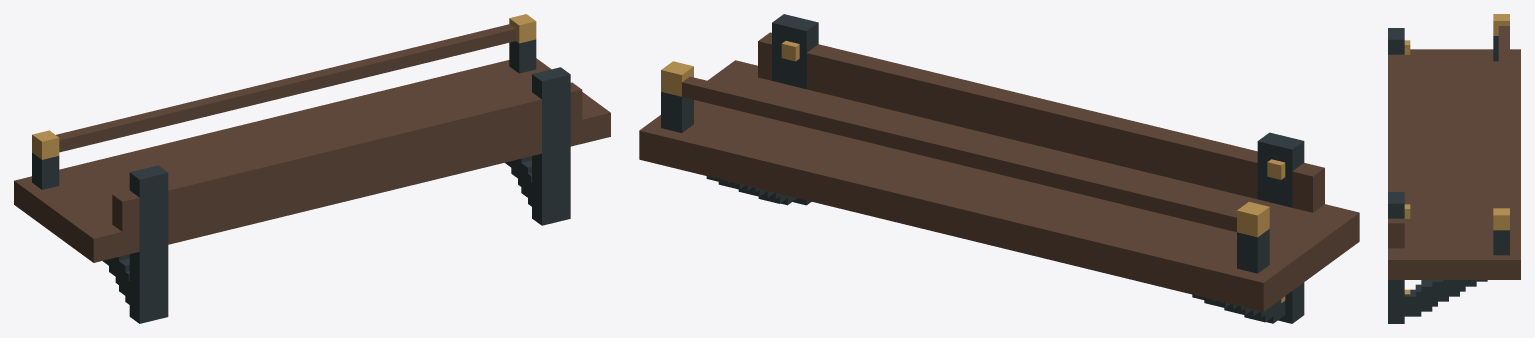
The picture shows the model from 3 angles, left to right: view 1: azimuth 30°, elevation 25°; view 2: azimuth 150°, elevation 25°; view 3: azimuth 270°, elevation 25°; orthographic projection. The views are drawn at different scales.
Parts seen in each view (by area): view 1: 墙面置物层板; view 2: 墙面置物层板; view 3: 墙面置物层板.
Boxes of the visible parts, left/top/right/bottom form: 墙面置物层板: left=14, top=14, right=610, bottom=323; 墙面置物层板: left=639, top=14, right=1359, bottom=323; 墙面置物层板: left=1388, top=14, right=1520, bottom=323.
Size of the model in its own units: 0.9 by 0.24 by 0.24.
3 materials, 3 textured.
